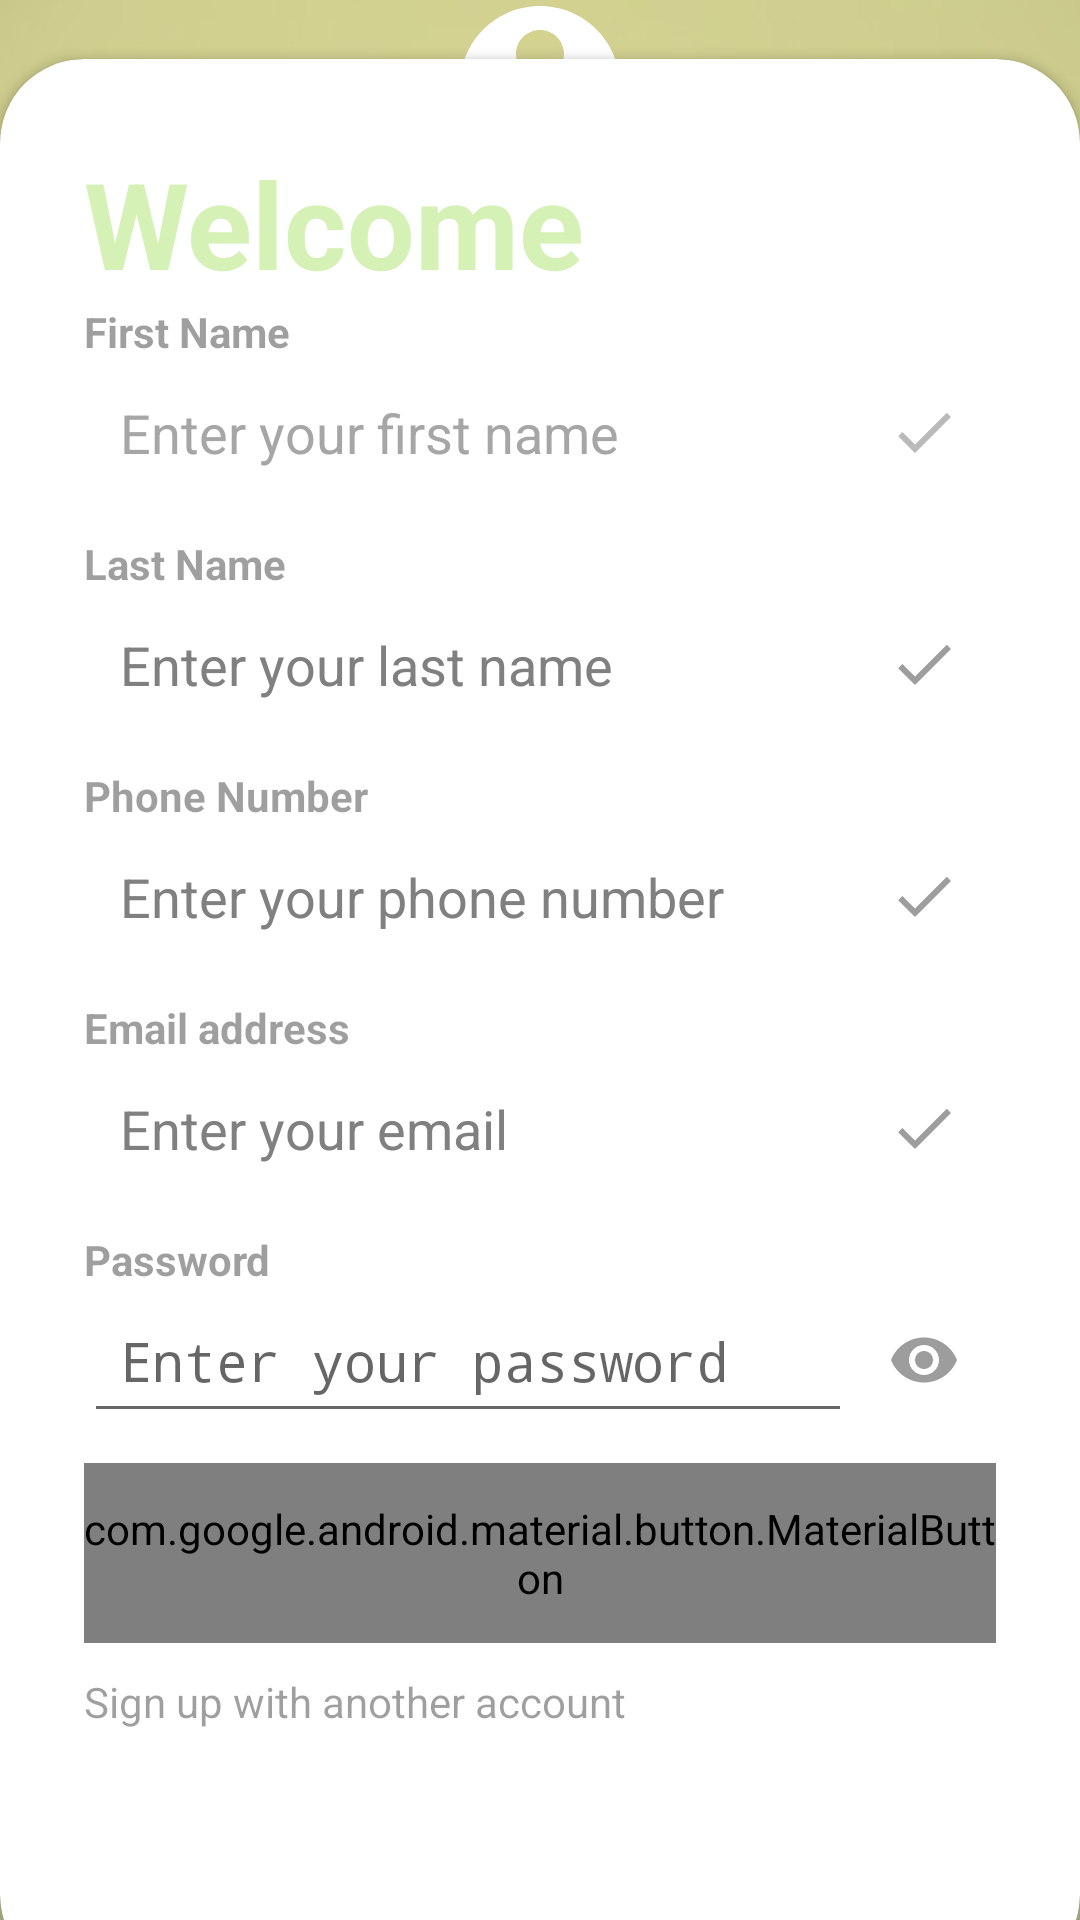

Icons on this 1080 x 1920 Android screen, each with the point to tap as point (x, y):
Toggle password visibility: point (924, 1360)
